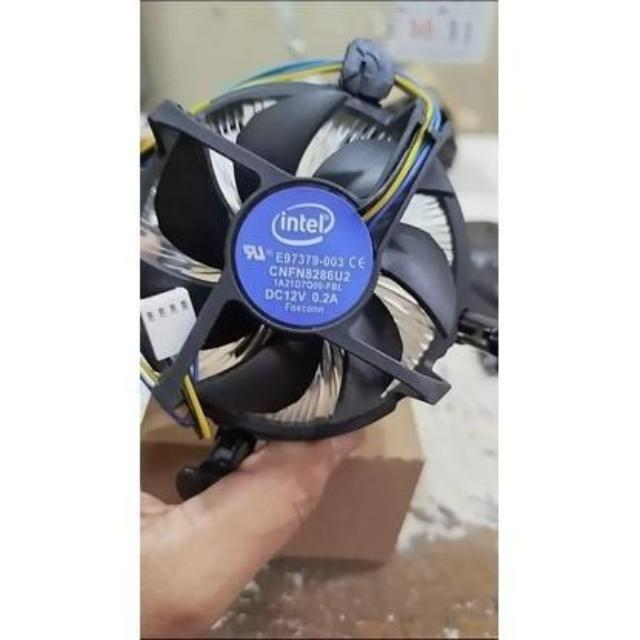CPU_Fan: (143, 52, 486, 446)
